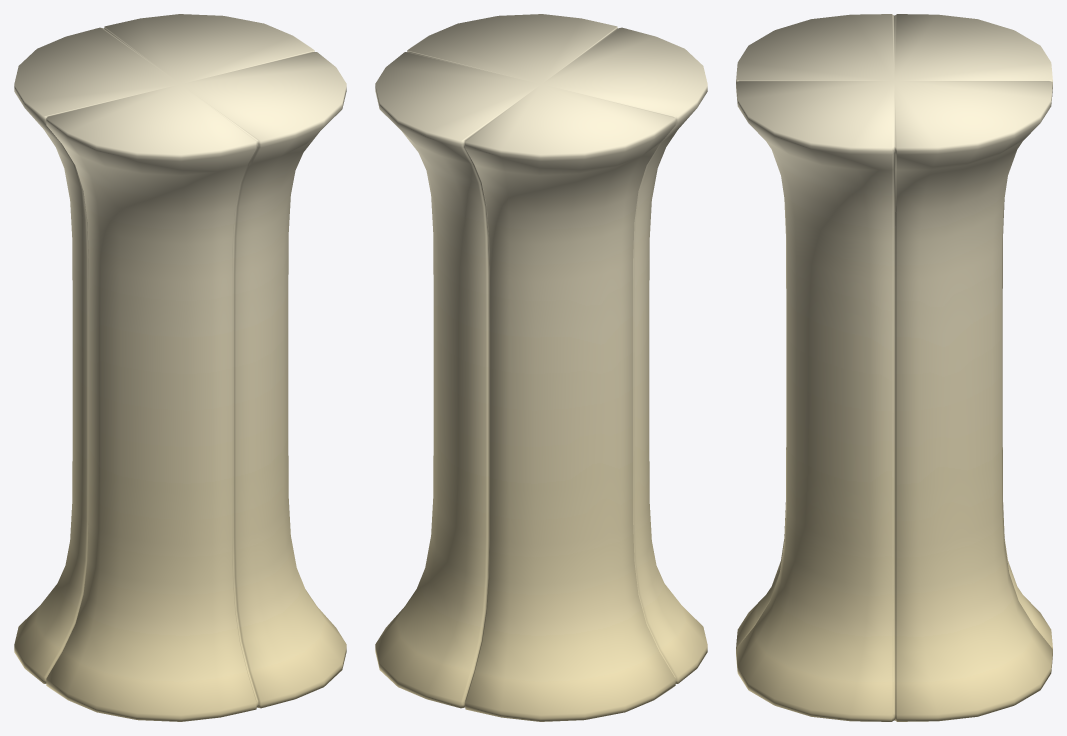
The model's file is sm_futuristic_pillar_4m.fbx.
The picture shows the model from 3 angles, left to right: view 1: azimuth 30°, elevation 25°; view 2: azimuth 150°, elevation 25°; view 3: azimuth 270°, elevation 25°; orthographic projection.
Visible parts, largest first — view 1: sm_futuristic_pillar_4m; view 2: sm_futuristic_pillar_4m; view 3: sm_futuristic_pillar_4m.
Part boxes in pixels (x1,y1,x2,y2): sm_futuristic_pillar_4m: (14,14,346,721); sm_futuristic_pillar_4m: (375,14,707,721); sm_futuristic_pillar_4m: (736,14,1052,721).
Bounding box in the file's own units: 150 × 150 × 300.
